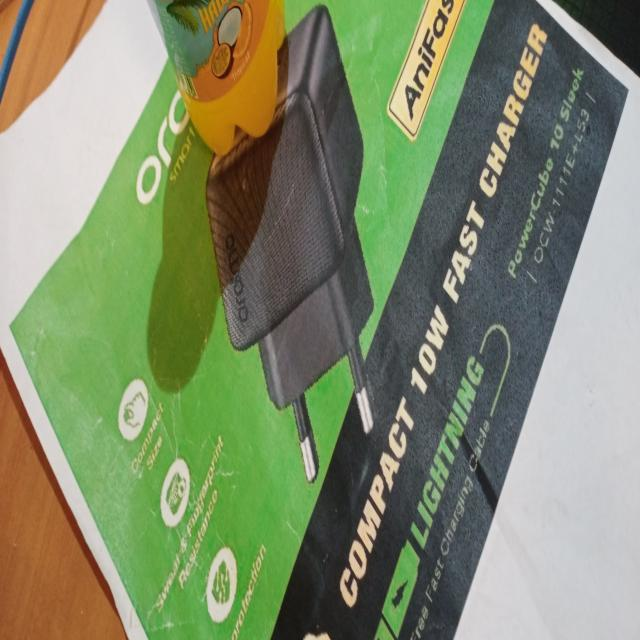PowerCube 10 Sleek OCW-1111ExL53: (489, 43, 602, 304)
